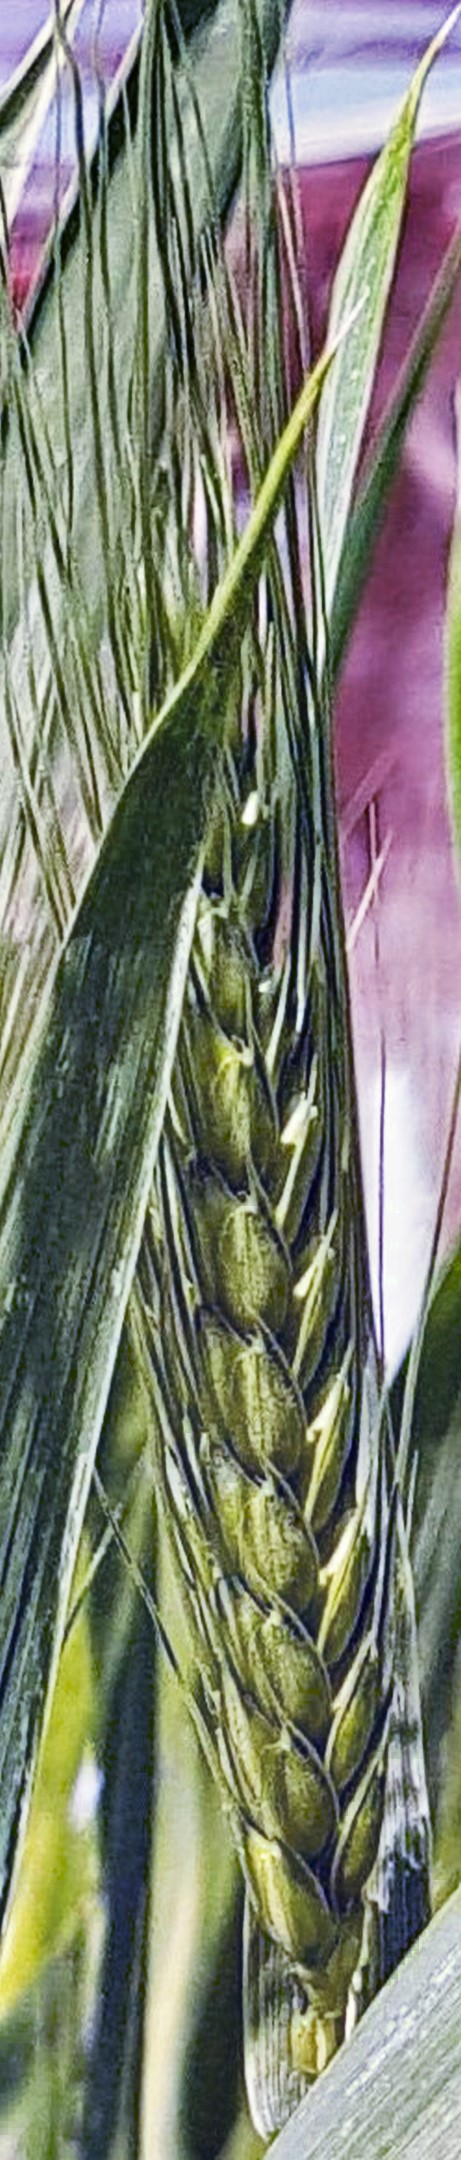Healthy Wheat: (83, 503, 461, 1929)
